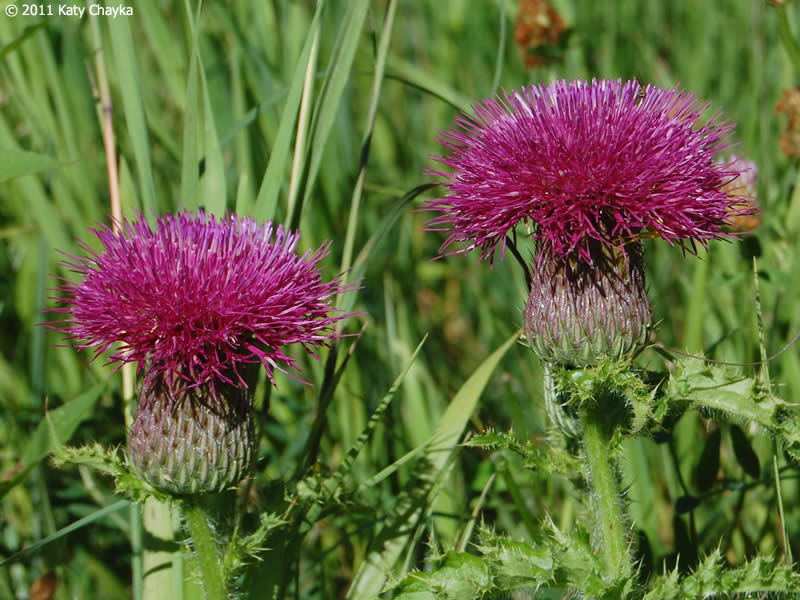thistle: (424, 68, 751, 392), (49, 216, 301, 521)
